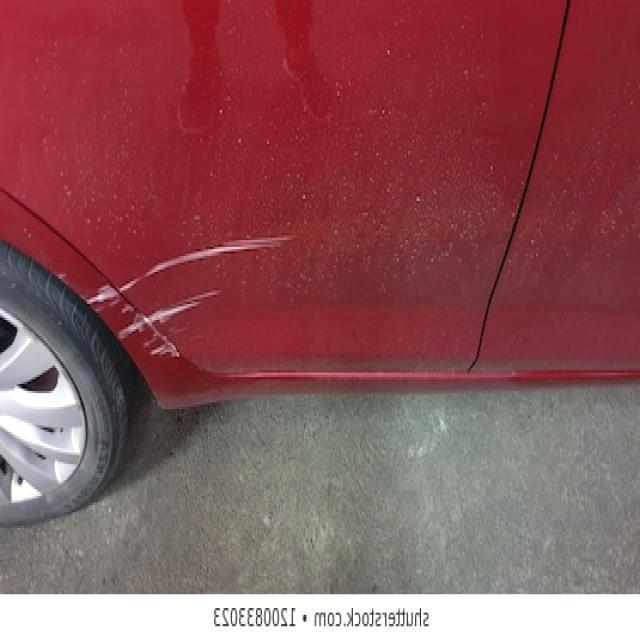minor: (144, 291, 218, 326), (119, 321, 154, 338), (89, 286, 118, 305), (154, 343, 177, 358)
moderate: (114, 234, 295, 294)
